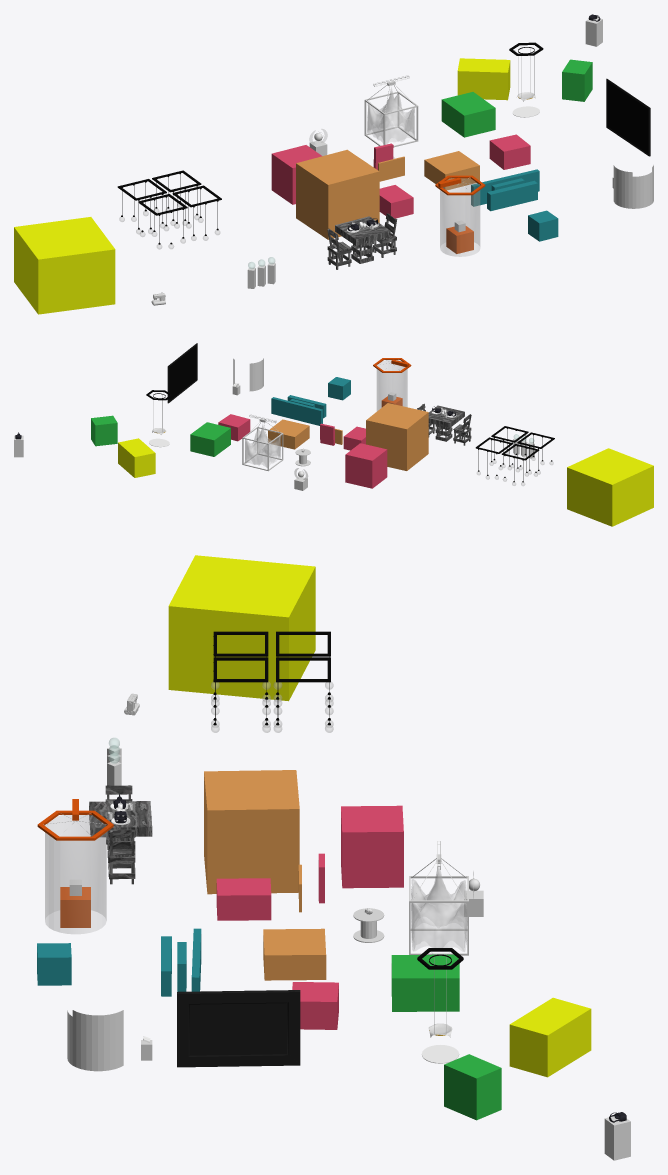
The model's file is piezas.glb.
The picture shows the model from 3 angles, top to bottom: view 1: azimuth 30°, elevation 25°; view 2: azimuth 150°, elevation 25°; view 3: azimuth 270°, elevation 25°; orthographic projection. The views are drawn at different scales.
Parts seen in each view (by area): view 1: Magi, Alexis, Cylinder.002, Cube.009, Plane.001, jaime, Cube.003, Omar, Pao, Leilani, Joana, Cylinder (+9 smaller); view 2: Magi, Alexis, Joana, Cylinder.002, Plane.001, jaime, Cube.009, Pao, Omar, Cube.003, Leilani, Isai (+8 smaller); view 3: Magi, Alexis, Cube.003, Cylinder.002, Joana, Omar, Plane.001, Leilani, jaime, Cube.009, Cylinder, Isai (+7 smaller).
Part boxes in pixels (<box>): Magi: <box>14,217,115,314</box>; Alexis: <box>296,149,379,239</box>; Cylinder.002: <box>435,175,485,256</box>; Cube.009: <box>327,213,397,269</box>; Plane.001: <box>364,75,418,147</box>; jaime: <box>117,170,221,249</box>; Cube.003: <box>606,78,650,156</box>; Omar: <box>457,58,510,100</box>; Pao: <box>471,169,539,211</box>; Leilani: <box>441,92,495,137</box>; Joana: <box>271,145,322,204</box>; Cylinder: <box>612,165,653,208</box>; Magi: <box>567,448,653,526</box>; Alexis: <box>366,403,428,470</box>; Joana: <box>345,443,387,488</box>; Cylinder.002: <box>373,358,411,410</box>; Plane.001: <box>242,414,283,471</box>; jaime: <box>475,426,554,485</box>; Cube.009: <box>417,403,471,445</box>; Pao: <box>271,395,326,425</box>; Omar: <box>118,438,155,477</box>; Cube.003: <box>167,343,197,403</box>; Leilani: <box>190,422,230,456</box>; Isai: <box>268,419,309,449</box>; Magi: <box>168,555,315,701</box>; Alexis: <box>204,770,299,894</box>; Cube.003: <box>177,990,300,1067</box>; Cylinder.002: <box>37,799,113,933</box>; Joana: <box>341,805,403,888</box>; Omar: <box>509,997,591,1077</box>; Plane.001: <box>409,841,468,955</box>; Leilani: <box>391,954,459,1011</box>; jaime: <box>211,631,333,732</box>; Cube.009: <box>89,785,152,884</box>; Cylinder: <box>67,1010,152,1071</box>; Isai: <box>263,928,326,980</box>.
Bounding box in the file's own units: 40.1 × 3.95 × 19.27.
Materials: 26 (1 with a texture image).
